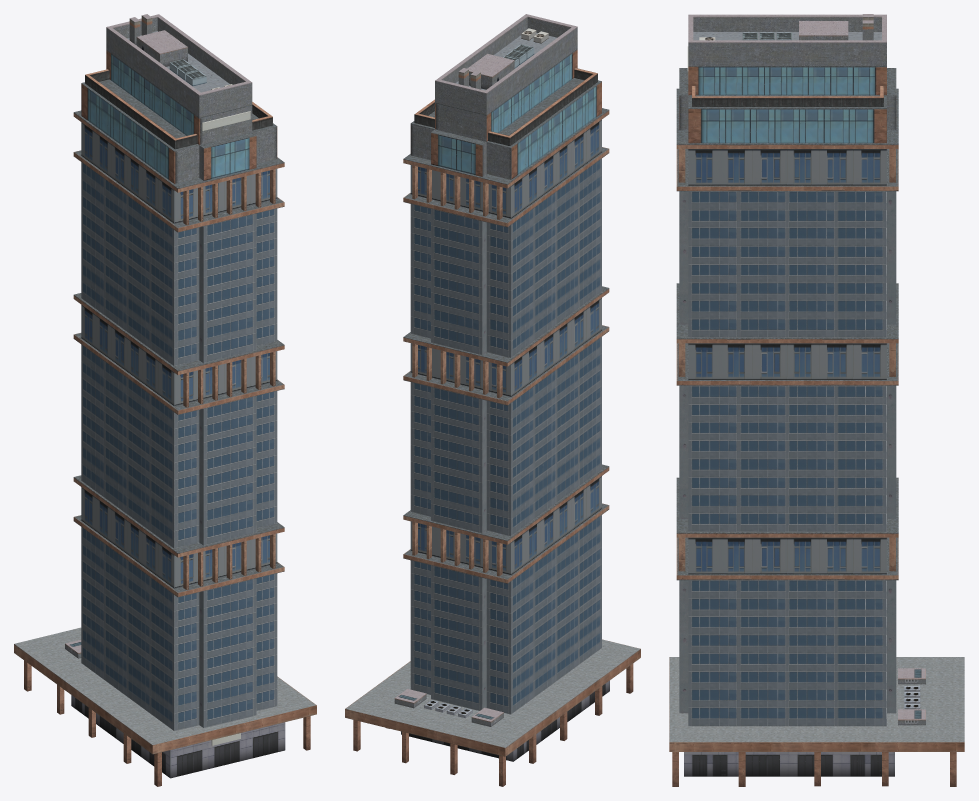
The model's file is Building_03.obj.
3 renders of one model, left to right at view 1: azimuth 30°, elevation 25°; view 2: azimuth 150°, elevation 25°; view 3: azimuth 270°, elevation 25°, orthographic. The views are drawn at different scales.
Visible parts, largest first — view 1: Building_03.001; view 2: Building_03.001; view 3: Building_03.001.
Boxes of the visible parts, x1,y1,x2,y2 form: Building_03.001: (14, 14, 316, 786); Building_03.001: (345, 14, 640, 786); Building_03.001: (669, 14, 964, 786).
Size of the model in its own units: 9.28 by 36.91 by 13.57.
